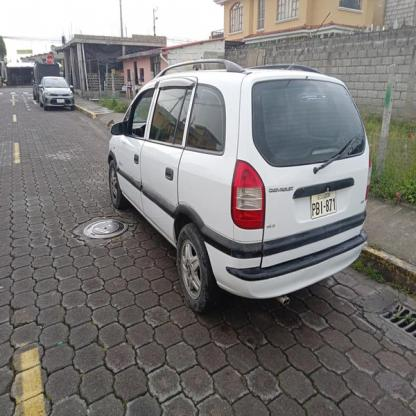Placa: (306, 186, 344, 224)
